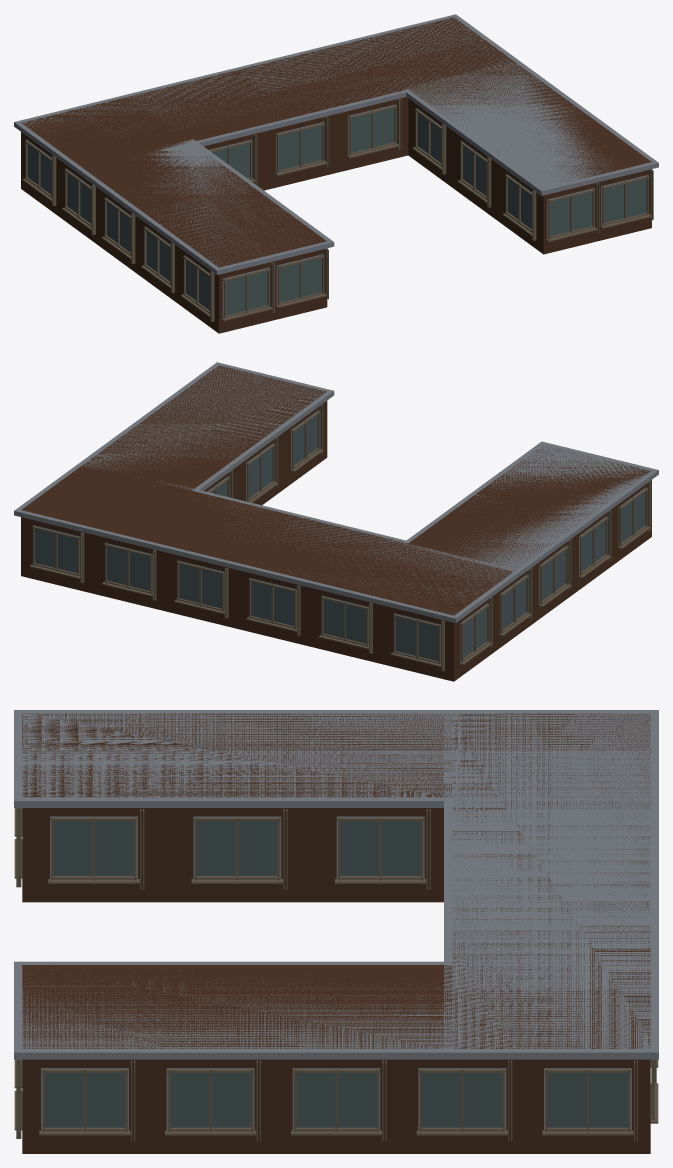
Rendered from mid-prebuilt_close.fbx.
The picture shows the model from 3 angles, top to bottom: view 1: azimuth 30°, elevation 25°; view 2: azimuth 150°, elevation 25°; view 3: azimuth 270°, elevation 25°; orthographic projection. The views are drawn at different scales.
Parts seen in each view (by area): view 1: a2016/0/mid-prebuilt_close; view 2: a2016/0/mid-prebuilt_close; view 3: a2016/0/mid-prebuilt_close.
Part boxes in pixels (x1,y1,x2,y2): a2016/0/mid-prebuilt_close: [14, 14, 658, 333]; a2016/0/mid-prebuilt_close: [14, 362, 658, 681]; a2016/0/mid-prebuilt_close: [14, 710, 658, 1153].
Size of the model in its own units: 24.5 by 3.5 by 19.5.
